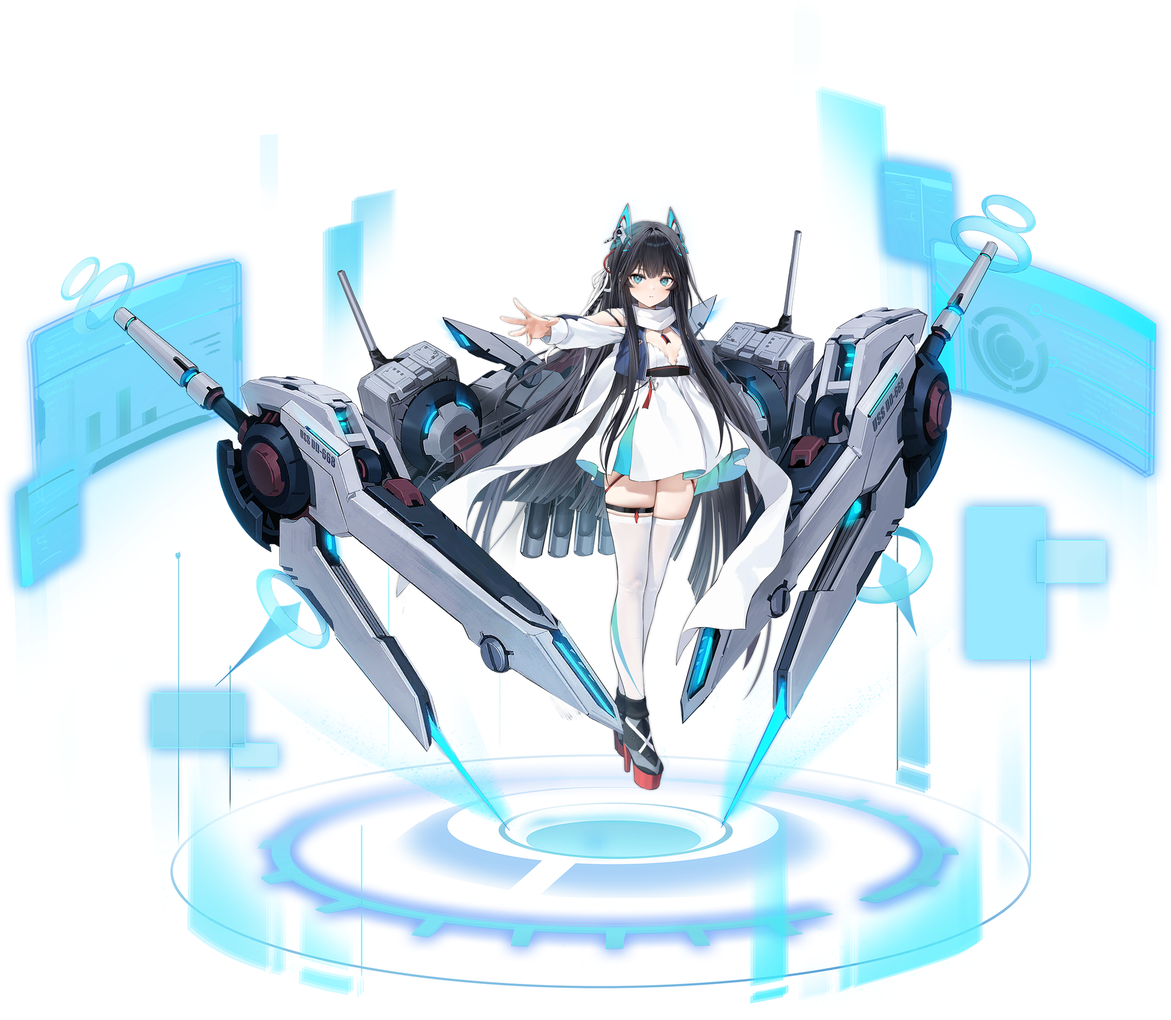person: (475, 161, 806, 803)
